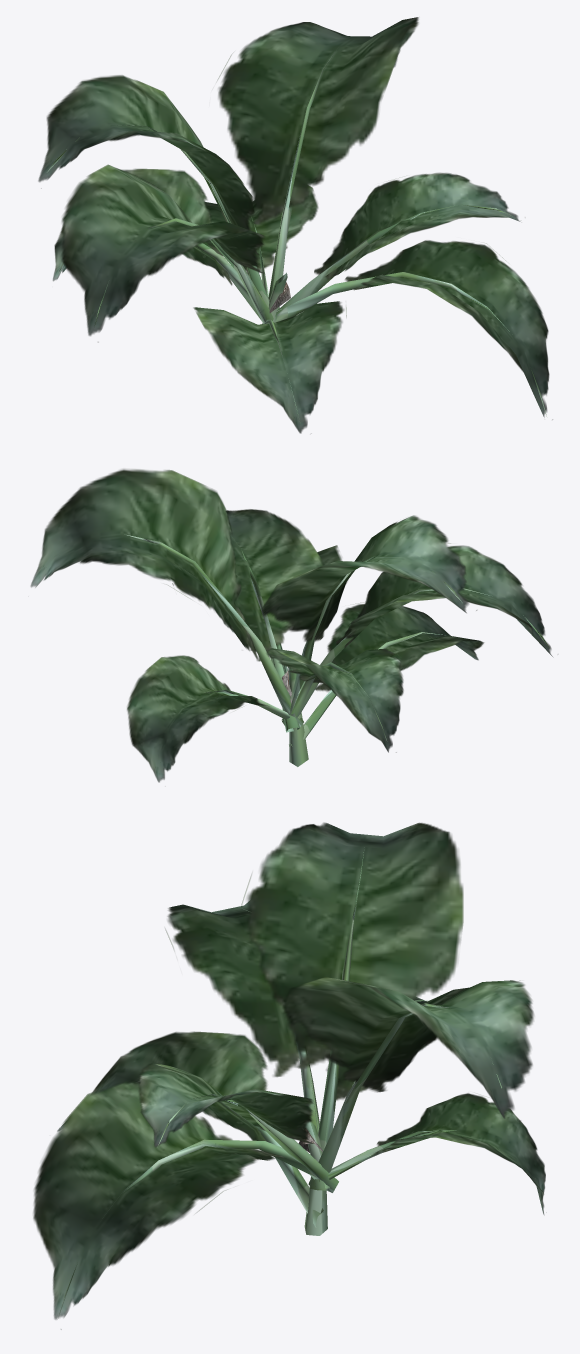
Rendered from talas_01_A_001.glb.
3 renders of one model, top to bottom at view 1: azimuth 30°, elevation 25°; view 2: azimuth 150°, elevation 25°; view 3: azimuth 270°, elevation 25°, orthographic. The views are drawn at different scales.
Visible parts, largest first — view 1: talas_01_A.001; view 2: talas_01_A.001; view 3: talas_01_A.001.
Part boxes in pixels (<box>): talas_01_A.001: <box>38,17,552,433</box>; talas_01_A.001: <box>30,469,552,782</box>; talas_01_A.001: <box>33,822,545,1329</box>.
Size of the model in its own units: 0.9303 by 0.5438 by 0.7984.
Materials: 3 (3 with a texture image).
